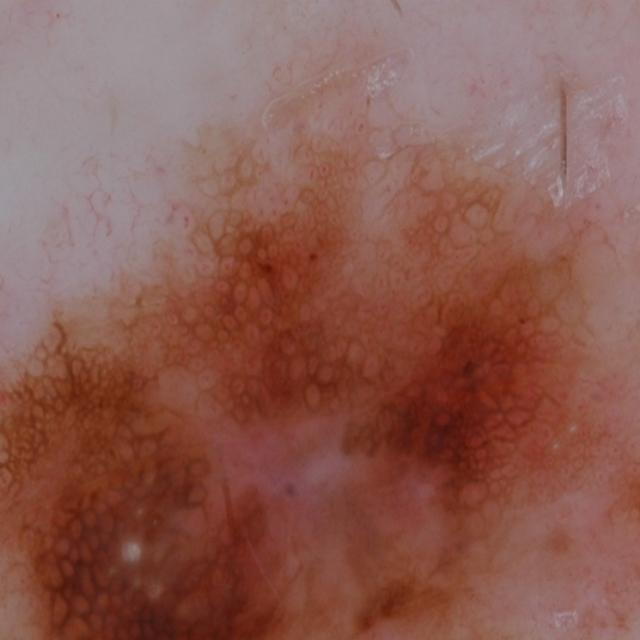Melanoma: (0, 106, 640, 640)
